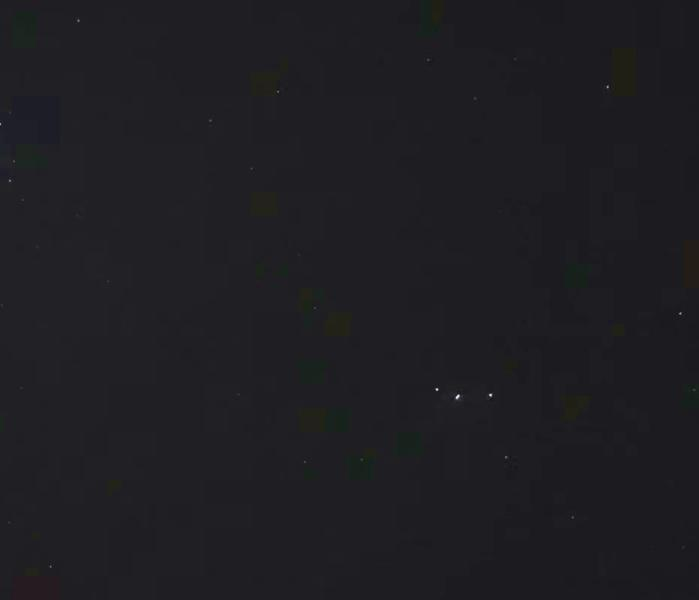Plane: (421, 381, 504, 413)
